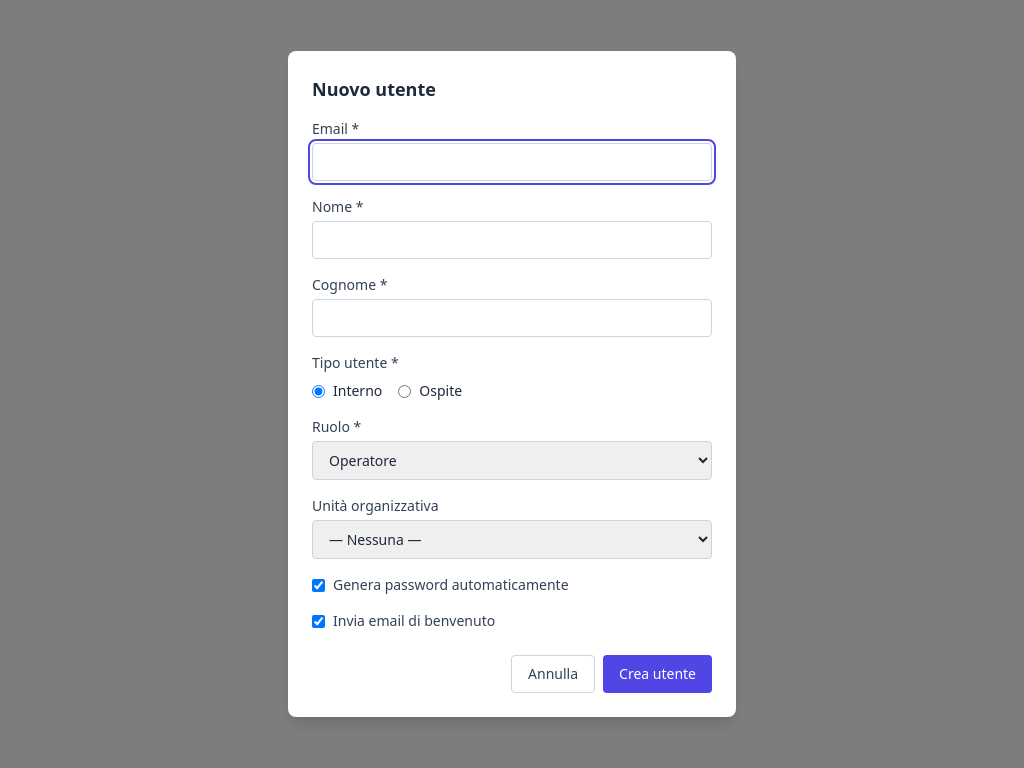
Test case: CreateUserModal › shows generated password after creation
This screenshot has width=1024, height=768.
Step 1. Type "new@test.com" into the field below "Email *" → (512, 162), box [312,143,712,181]
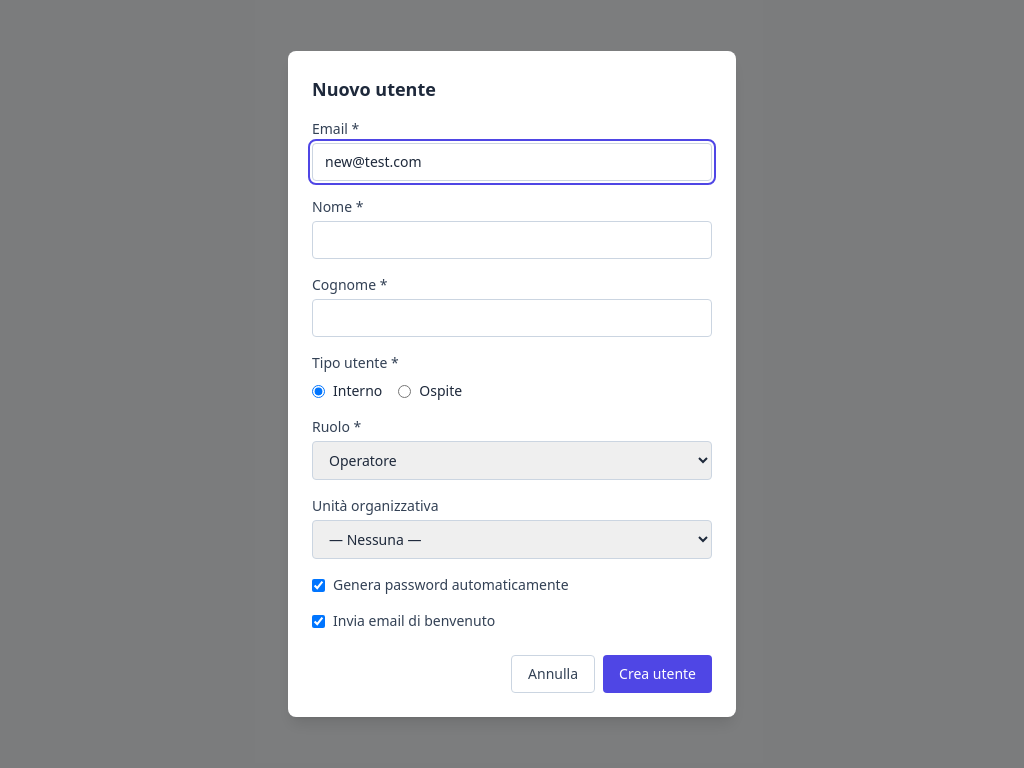
Step 2. Type "Anna" into the 2nd field → (512, 240), box [312,221,712,259]
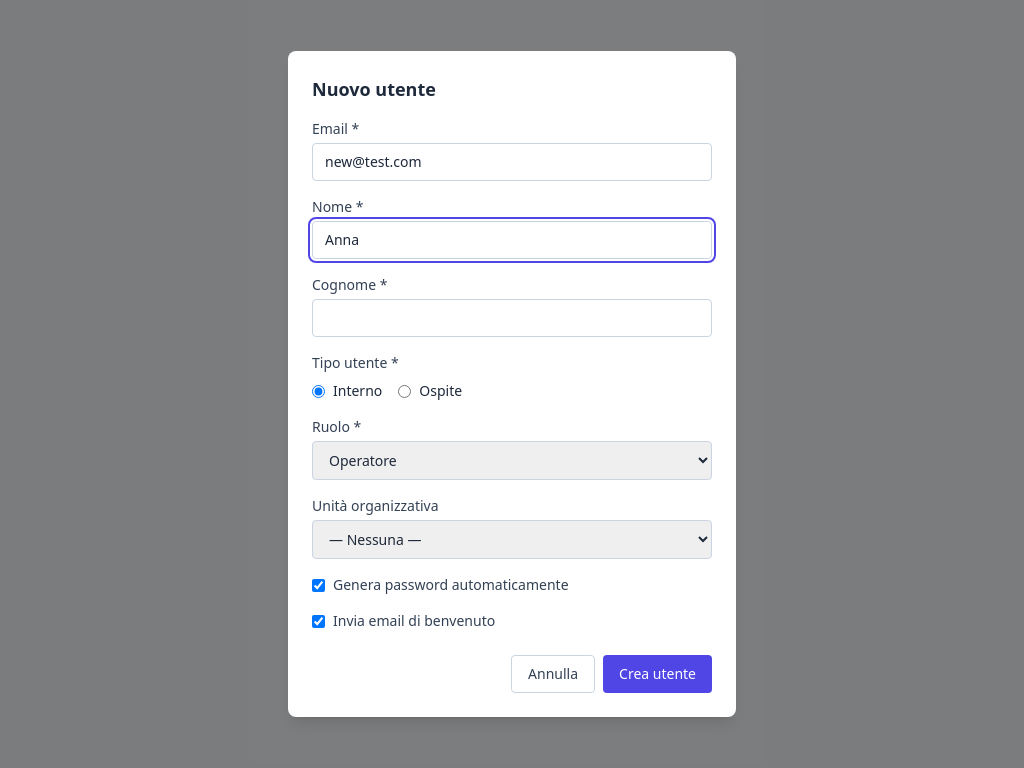
Step 3. Type "Bianchi" into the field below "Cognome *" → (512, 318), box [312,299,712,337]
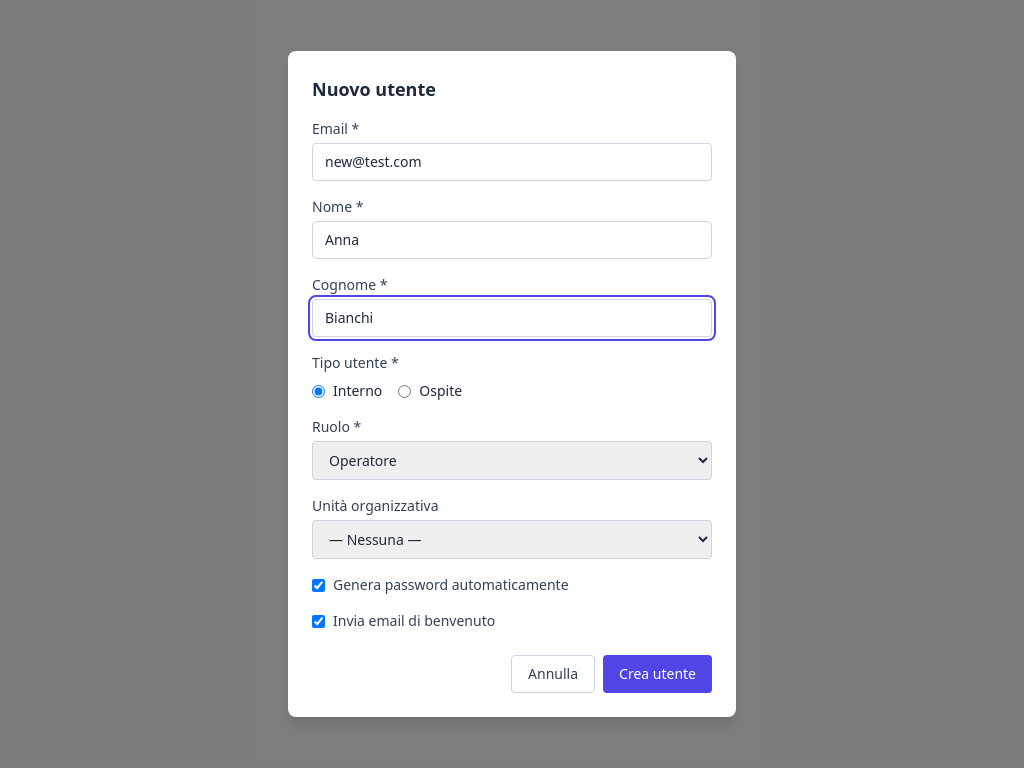
Step 4. Click the button "Crea utente" → click(658, 674), box [603,655,712,693]
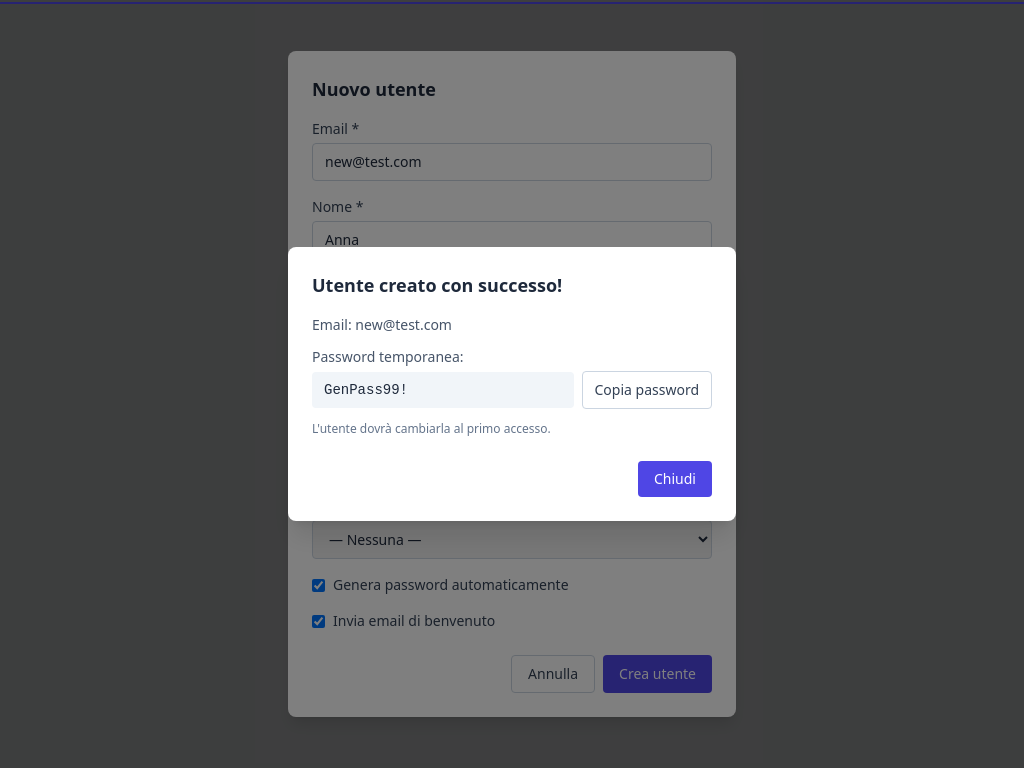
Now the text "GenPass99!" is shown, box [312,372,574,408]
